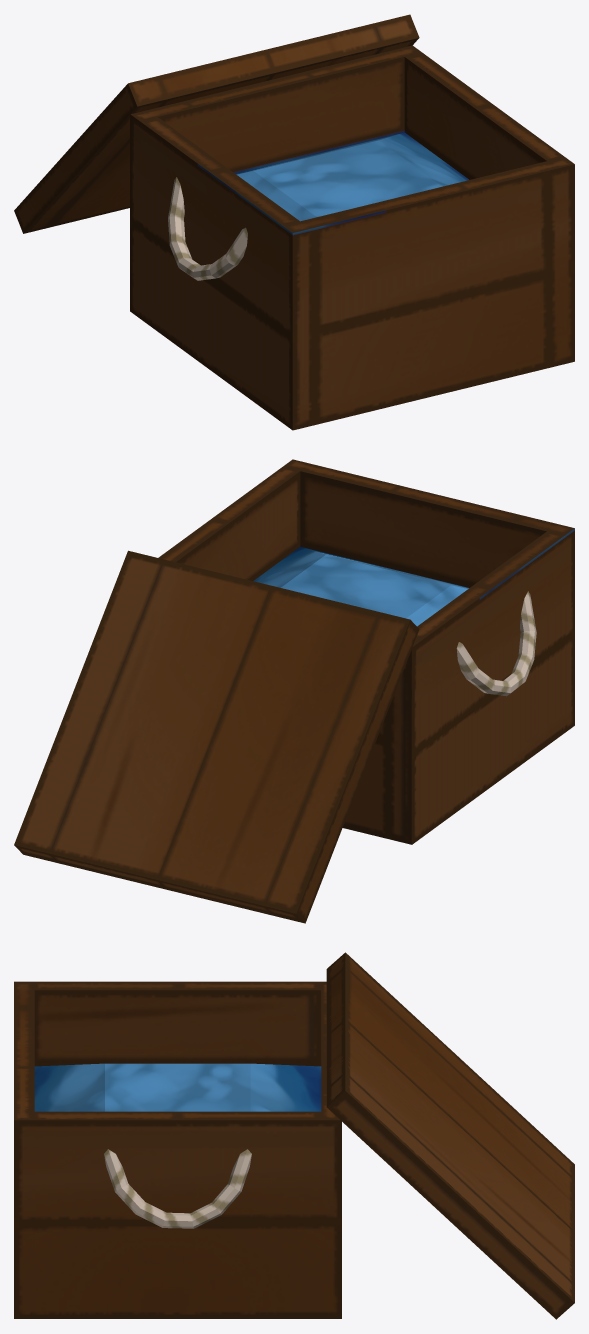
File: BaitBox.fbx
3 views of the same model, one above another, from view 1: azimuth 30°, elevation 25°; view 2: azimuth 150°, elevation 25°; view 3: azimuth 270°, elevation 25° (orthographic).
Parts seen in each view (by area): view 1: Object.001; view 2: Object.001; view 3: Object.001.
Boxes of the visible parts, x1,y1,x2,y2 form: Object.001: (14,14,574,430); Object.001: (14,459,574,923); Object.001: (14,952,574,1319).
Bounding box in the file's own units: 83.82 × 54.8 × 122.
